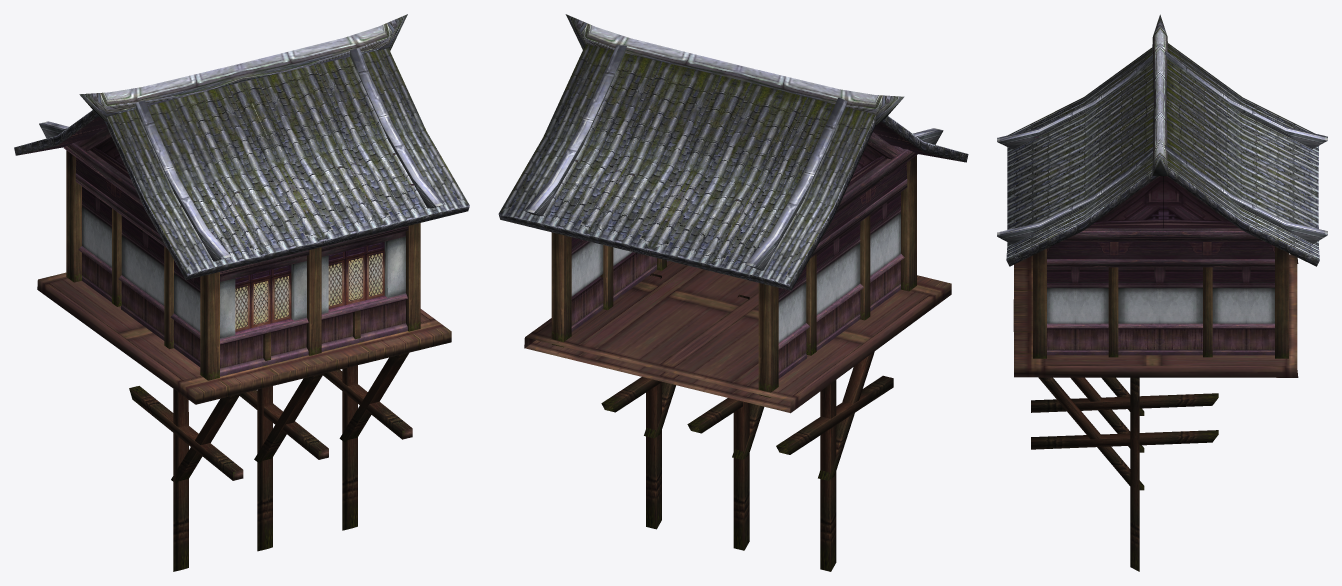
Rendered from SWDS_building_02.FBX.
The picture shows the model from 3 angles, left to right: view 1: azimuth 30°, elevation 25°; view 2: azimuth 150°, elevation 25°; view 3: azimuth 270°, elevation 25°; orthographic projection. The views are drawn at different scales.
Visible parts, largest first — view 1: SWDS_building_02; view 2: SWDS_building_02; view 3: SWDS_building_02.
Part boxes in pixels (x1,y1,x2,y2): SWDS_building_02: (14, 14, 469, 571); SWDS_building_02: (498, 14, 968, 571); SWDS_building_02: (997, 14, 1327, 571).
Bounding box in the file's own units: 1009 × 1434 × 972.
